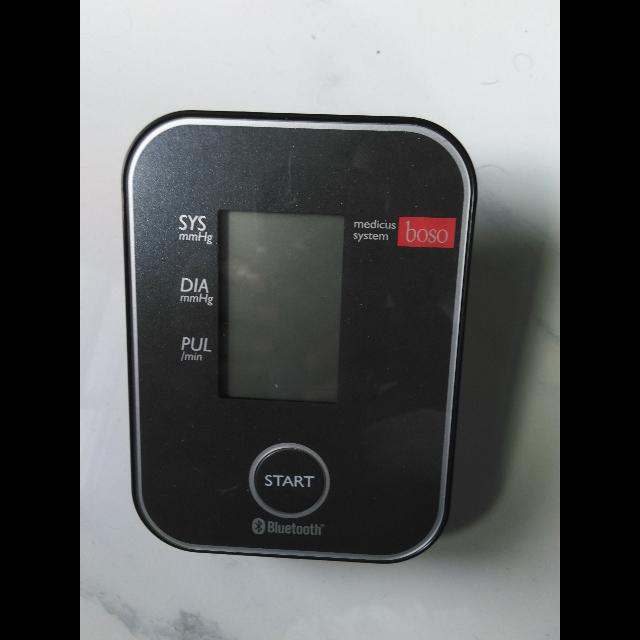Blood-Pressure-Monitor: (111, 92, 511, 596)
